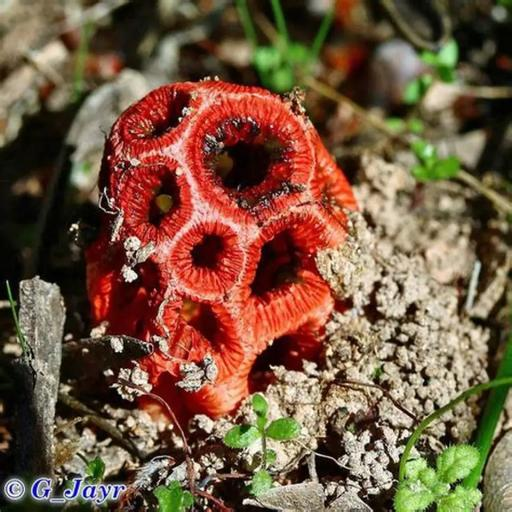Red Cage Fungus: (84, 81, 355, 421)
